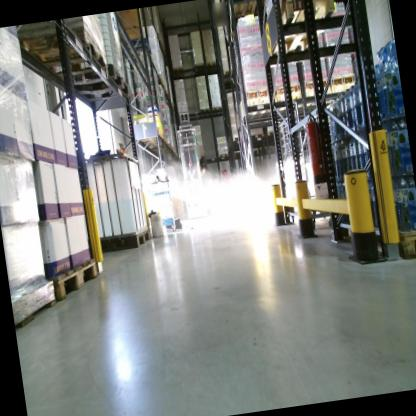pallet: (261, 0, 343, 66), (19, 25, 109, 85), (347, 203, 416, 265), (37, 255, 105, 306), (59, 59, 132, 105), (9, 276, 65, 330), (85, 224, 153, 259), (219, 0, 267, 30), (241, 89, 275, 125), (121, 119, 165, 145), (323, 77, 362, 104), (268, 88, 304, 114), (297, 85, 333, 111), (124, 30, 154, 59), (263, 126, 288, 155), (220, 64, 242, 92), (246, 129, 268, 156), (227, 132, 250, 156), (147, 71, 164, 88), (210, 101, 226, 119), (170, 65, 187, 79), (205, 59, 218, 72), (197, 104, 210, 117), (193, 61, 206, 72), (214, 151, 229, 159)
pallet_truck: (172, 113, 216, 219)
